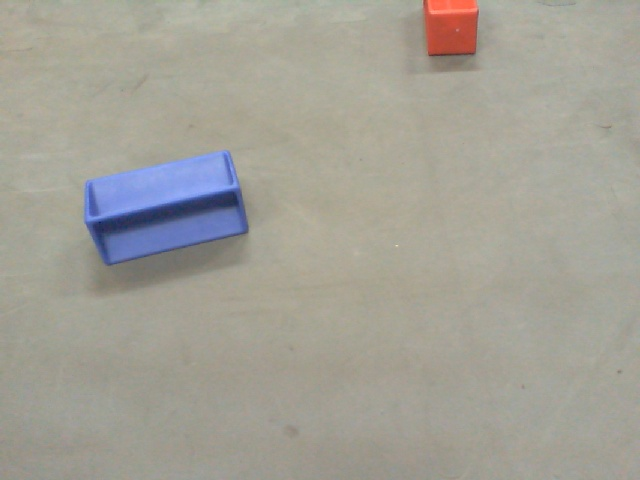BlueSample: (80, 148, 254, 266)
RedSample: (422, 1, 479, 54)
